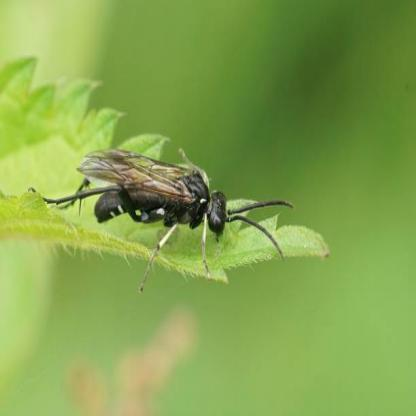sawfly: (22, 134, 294, 293)
